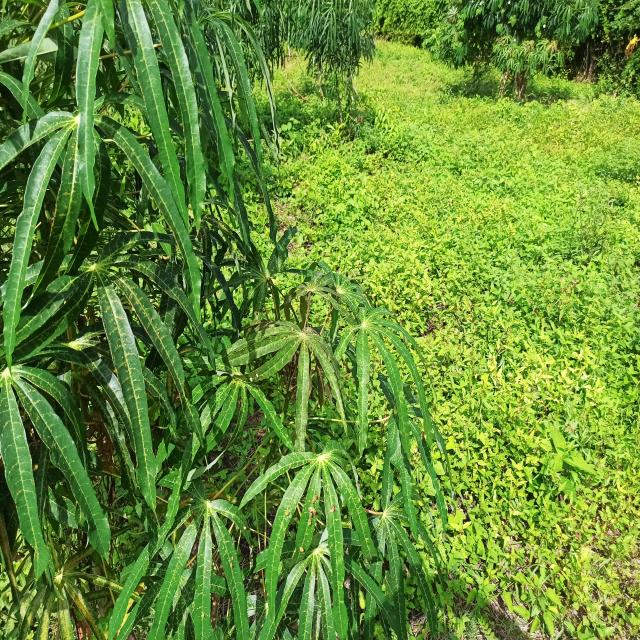Maleza: (316, 105, 640, 262), (447, 381, 626, 639), (418, 244, 640, 398)
Mosca: (305, 507, 317, 533), (227, 553, 238, 571), (311, 488, 323, 504), (327, 503, 339, 515), (236, 521, 249, 532), (298, 543, 308, 554)
